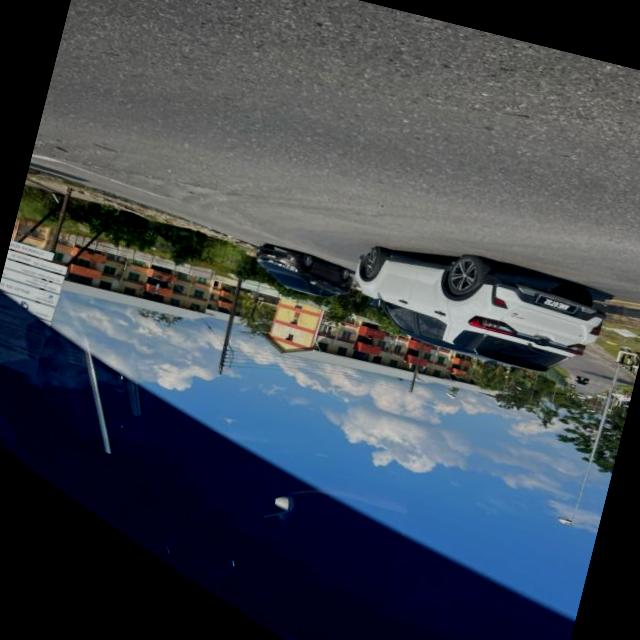PeroduaAtiva: (341, 228, 614, 388)
